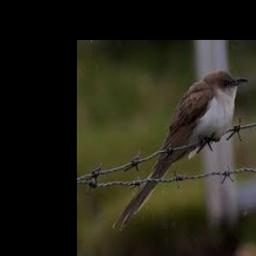Cuckoo: (111, 70, 248, 229)
